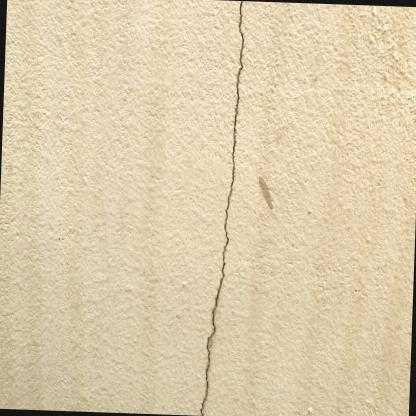crack: (200, 1, 244, 416)
